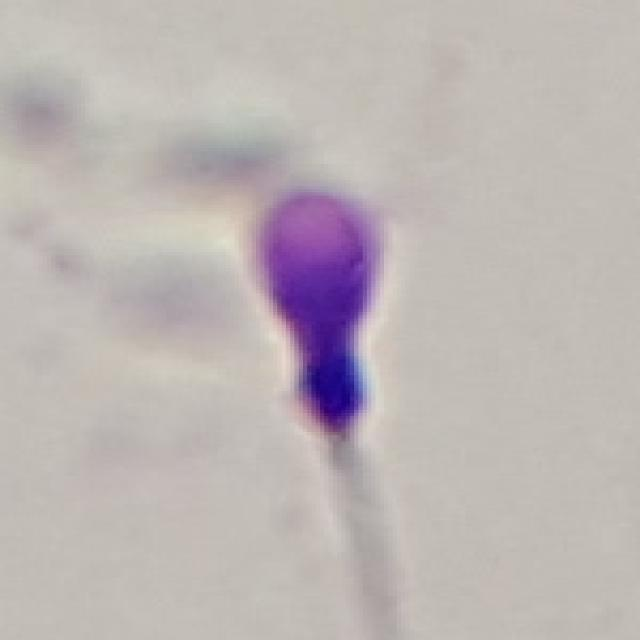abnormal sperm: (213, 182, 410, 587)
